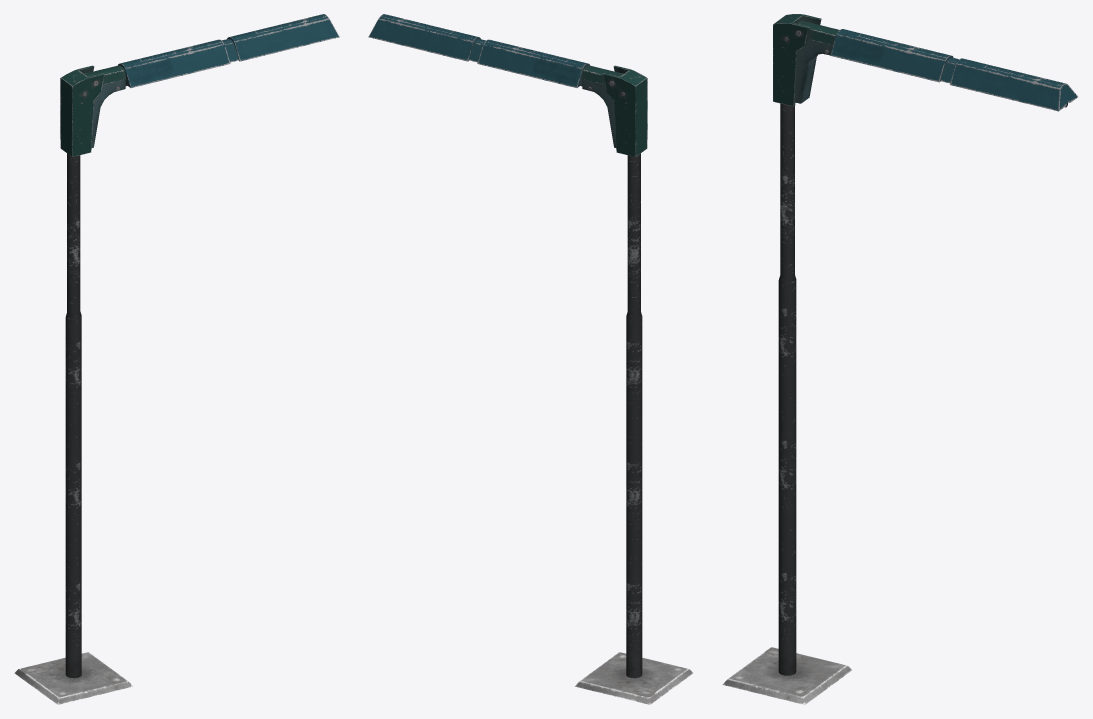
File: street_light.obj
3 renders of one model, left to right at view 1: azimuth 30°, elevation 25°; view 2: azimuth 150°, elevation 25°; view 3: azimuth 330°, elevation 25°, orthographic. The views are drawn at different scales.
Parts seen in each view (by area): view 1: obj8, obj3, obj2, obj4, obj1; view 2: obj8, obj3, obj2, obj4, obj1; view 3: obj8, obj3, obj2, obj4, obj1.
Boxes of the visible parts, x1=… form: obj8: x1=65, y1=153, x2=81, y2=678; obj3: x1=118, y1=14, x2=339, y2=87; obj2: x1=14, y1=652, x2=132, y2=704; obj4: x1=60, y1=65, x2=104, y2=156; obj1: x1=91, y1=79, x2=125, y2=147; obj8: x1=626, y1=153, x2=642, y2=678; obj3: x1=368, y1=14, x2=589, y2=87; obj2: x1=575, y1=652, x2=693, y2=704; obj4: x1=603, y1=65, x2=647, y2=156; obj1: x1=582, y1=79, x2=616, y2=147; obj8: x1=778, y1=103, x2=796, y2=675; obj3: x1=830, y1=29, x2=1077, y2=111; obj2: x1=722, y1=647, x2=852, y2=704; obj4: x1=773, y1=14, x2=821, y2=106; obj1: x1=795, y1=39, x2=833, y2=103.
Bounding box in the file's own units: 199 × 389 × 50.8.
